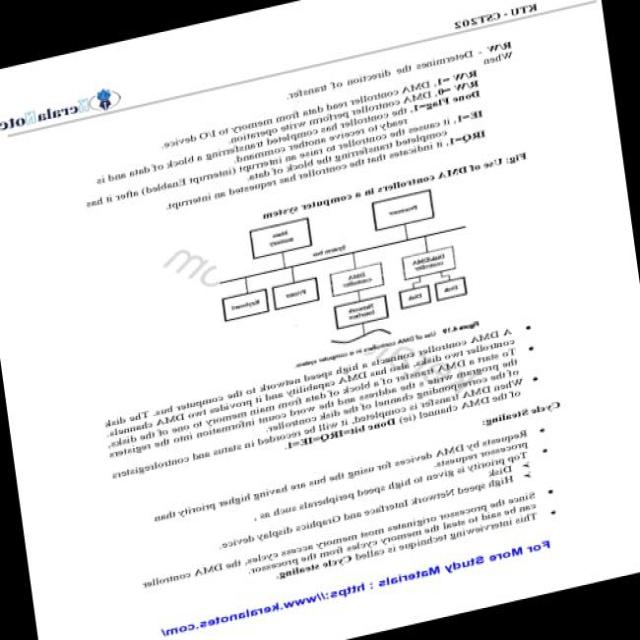Figure Detection - v3 Dataset Version2: (193, 173, 493, 376)
